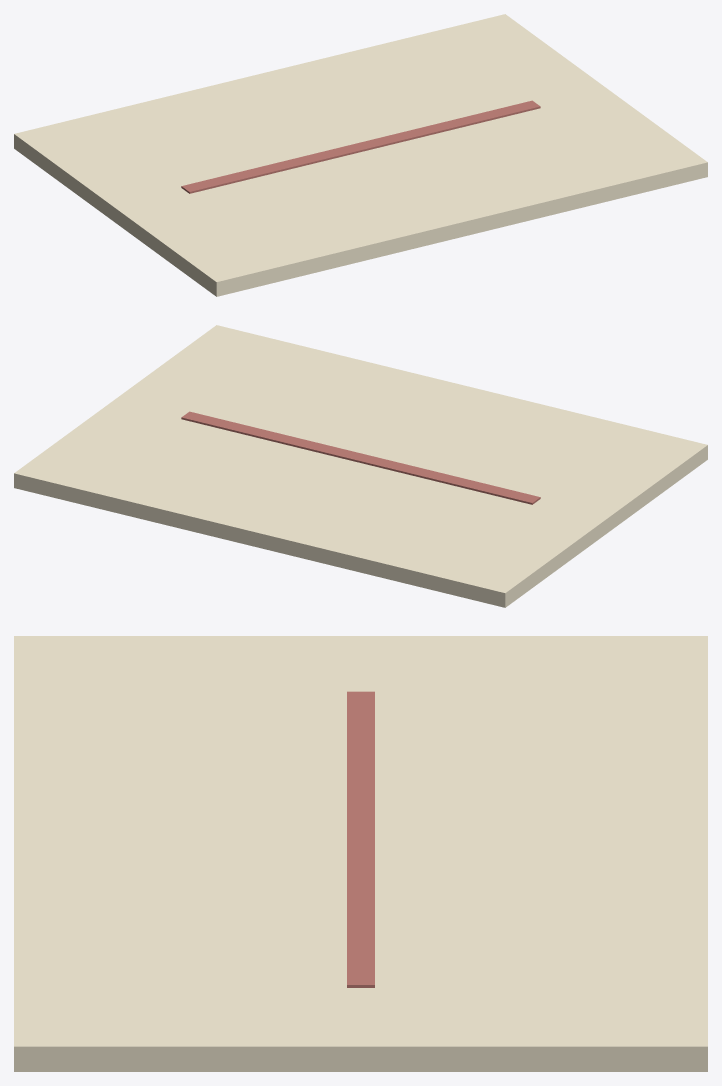
Rendered from SM_CH_Paper_Paper.fbx.
The picture shows the model from 3 angles, top to bottom: view 1: azimuth 30°, elevation 25°; view 2: azimuth 150°, elevation 25°; view 3: azimuth 270°, elevation 25°; orthographic projection. The views are drawn at different scales.
Visible parts, largest first — view 1: SM_CH_Paper_Paper; view 2: SM_CH_Paper_Paper; view 3: SM_CH_Paper_Paper.
Boxes of the visible parts, <box> form: SM_CH_Paper_Paper: <box>14,14,707,296</box>; SM_CH_Paper_Paper: <box>14,325,707,607</box>; SM_CH_Paper_Paper: <box>14,636,707,1071</box>.
Bounding box in the file's own units: 7000 × 5000 × 225.
